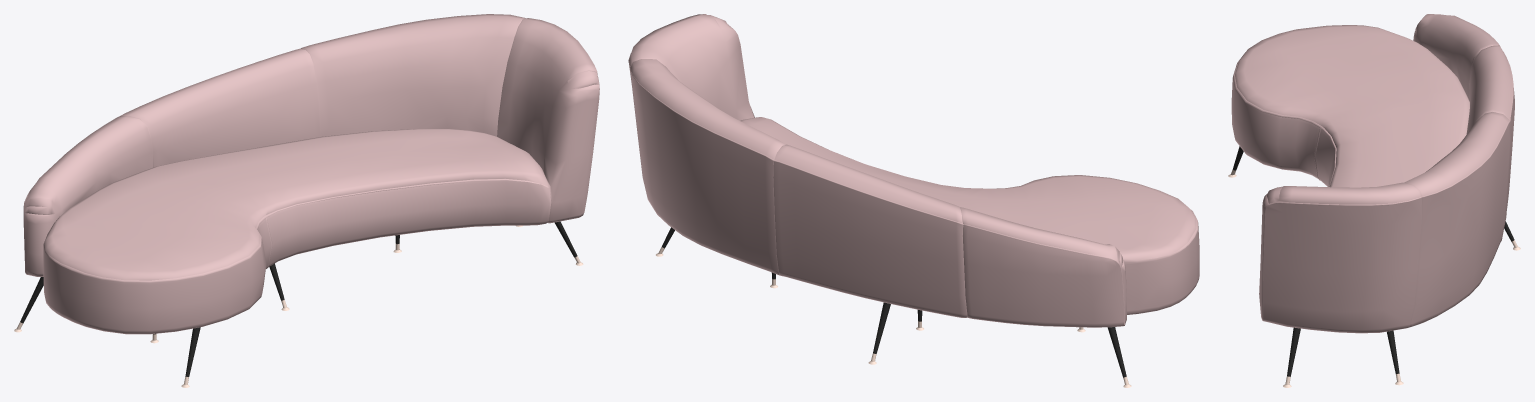
The model's file is pale-pink.glb.
The picture shows the model from 3 angles, left to right: view 1: azimuth 30°, elevation 25°; view 2: azimuth 150°, elevation 25°; view 3: azimuth 270°, elevation 25°; orthographic projection. The views are drawn at different scales.
Parts seen in each view (by area): view 1: GlamVelvetSofa_fabric, GlamVelvetSofa_legs; view 2: GlamVelvetSofa_fabric, GlamVelvetSofa_legs; view 3: GlamVelvetSofa_fabric, GlamVelvetSofa_legs.
Boxes of the visible parts, x1,y1,x2,y2 form: GlamVelvetSofa_fabric: (23,14,599,334); GlamVelvetSofa_legs: (20,221,577,376); GlamVelvetSofa_fabric: (628,14,1199,327); GlamVelvetSofa_legs: (662,227,1126,377); GlamVelvetSofa_fabric: (1231,14,1514,333); GlamVelvetSofa_legs: (1233,146,1514,376).
Size of the model in its own units: 2.19 by 0.7875 by 1.02.
